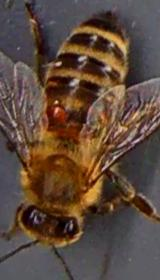varroa_mite: (46, 96, 73, 128)
